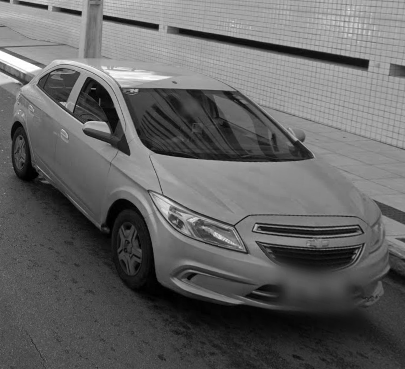car: (10, 55, 392, 332)
